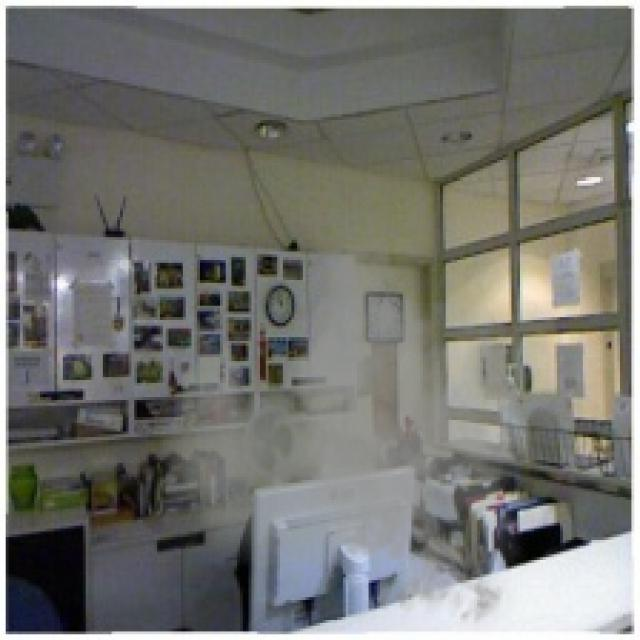smoke: (154, 229, 557, 637)
